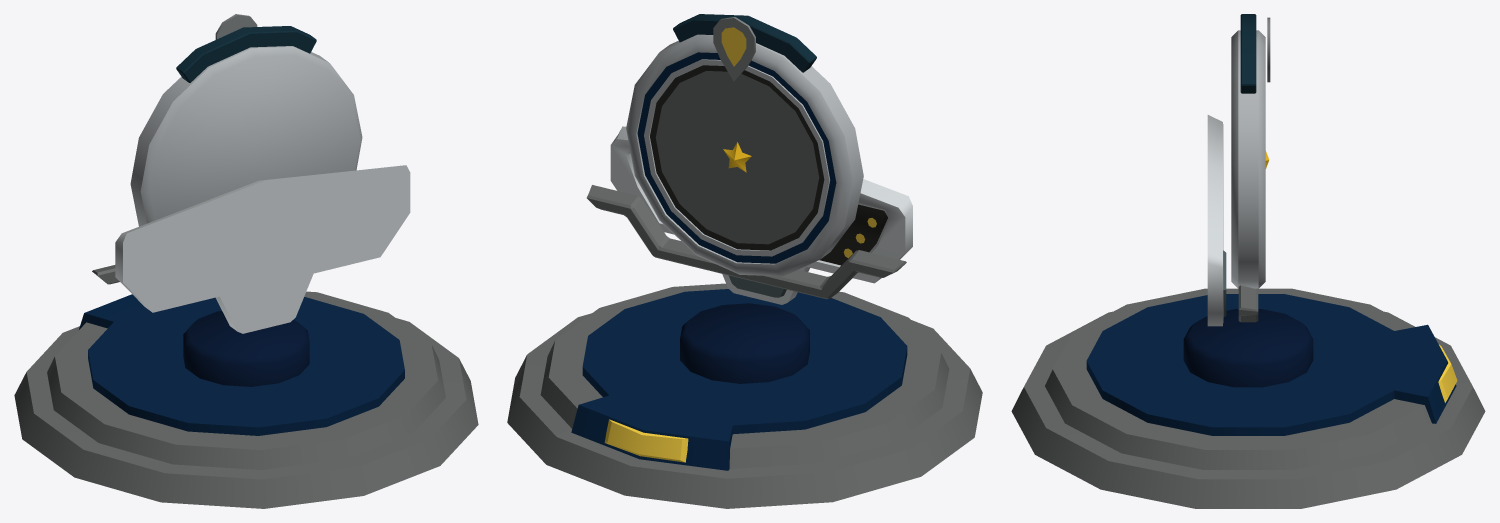
Rendered from lucky.fbx.
3 views of the same model, side by side, from view 1: azimuth 30°, elevation 25°; view 2: azimuth 150°, elevation 25°; view 3: azimuth 270°, elevation 25° (orthographic). The views are drawn at different scales.
Visible parts, largest first — view 1: lucky spin; view 2: lucky spin; view 3: lucky spin.
Part boxes in pixels (box(x1,y1,x2,y2)): lucky spin: box(14, 14, 478, 508); lucky spin: box(507, 14, 982, 508); lucky spin: box(1011, 14, 1485, 508).
Size of the model in its own units: 2.74 by 2.57 by 2.81.
